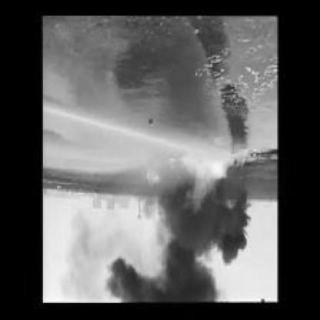Fire: (152, 150, 252, 218)
Smoke: (108, 219, 250, 303)
